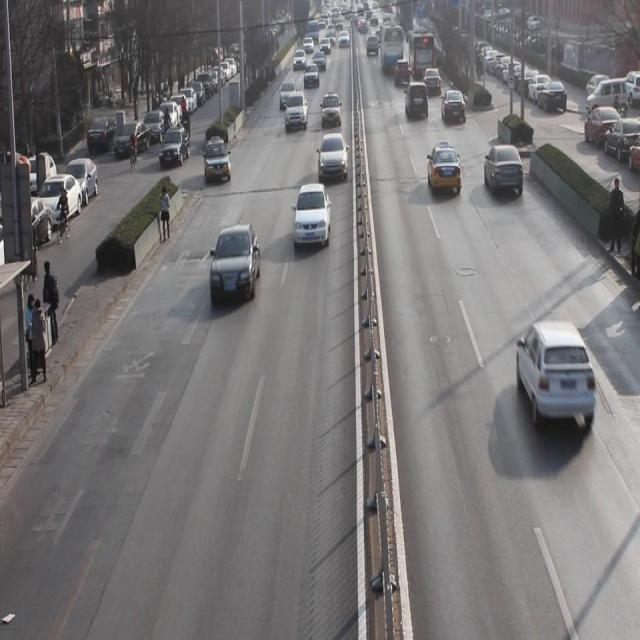car: (513, 321, 596, 428), (210, 226, 264, 303), (292, 181, 332, 250), (483, 144, 524, 200), (427, 141, 462, 199), (203, 139, 230, 187), (319, 136, 348, 180), (284, 91, 308, 133), (405, 79, 429, 120), (442, 90, 466, 125), (321, 90, 342, 127), (423, 63, 440, 99), (278, 79, 297, 111), (393, 57, 410, 88), (303, 64, 320, 88)
